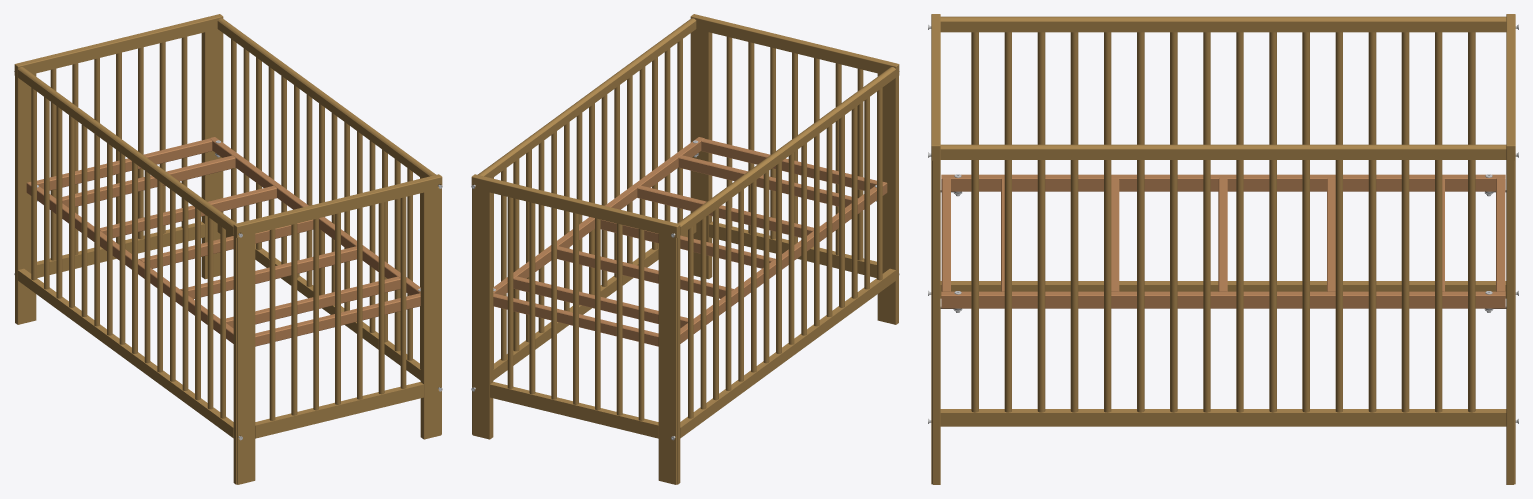
The model's file is All_Bed.glb.
The picture shows the model from 3 angles, left to right: view 1: azimuth 30°, elevation 25°; view 2: azimuth 150°, elevation 25°; view 3: azimuth 270°, elevation 25°; orthographic projection. The views are drawn at different scales.
Parts seen in each view (by area): view 1: KENSVIK_-_Part_1, KENSVIK_-_Part_2, KENSVIK_-_Part_2_1, KENSVIK_-_Part_1_1, KENSVIK_-_Part_10_1, KENSVIK_-_Part_11_1, KENSVIK_-_Part_5, KENSVIK_-_Part_11, KENSVIK_-_Part_5_1, KENSVIK_-_Part_7, KENSVIK_-_Part_13_1, KENSVIK_-_Part_13 (+52 smaller); view 2: KENSVIK_-_Part_2_1, KENSVIK_-_Part_1_1, KENSVIK_-_Part_1, KENSVIK_-_Part_2, KENSVIK_-_Part_10_1, KENSVIK_-_Part_11_1, KENSVIK_-_Part_5_1, KENSVIK_-_Part_11, KENSVIK_-_Part_5, KENSVIK_-_Part_7_1, KENSVIK_-_Part_13_1, KENSVIK_-_Part_13 (+52 smaller); view 3: KENSVIK_-_Part_10, KENSVIK_-_Part_11_1, KENSVIK_-_Part_11, KENSVIK_-_Part_13_1, KENSVIK_-_Part_13, KENSVIK_-_Part_10_1, KENSVIK_-_Part_1_1, KENSVIK_-_Part_2, KENSVIK_-_Part_9_11, KENSVIK_-_Part_9_13, KENSVIK_-_Part_9_15, KENSVIK_-_Part_9_16 (+35 smaller).
Part boxes in pixels (left/top/right/bottom): KENSVIK_-_Part_1: left=233, top=234, right=255, bottom=484; KENSVIK_-_Part_2: left=420, top=188, right=441, bottom=439; KENSVIK_-_Part_2_1: left=15, top=73, right=36, bottom=324; KENSVIK_-_Part_1_1: left=201, top=29, right=223, bottom=279; KENSVIK_-_Part_10_1: left=18, top=268, right=233, bottom=438; KENSVIK_-_Part_11_1: left=18, top=67, right=236, bottom=235; KENSVIK_-_Part_5: left=233, top=174, right=442, bottom=237; KENSVIK_-_Part_11: left=217, top=18, right=435, bottom=178; KENSVIK_-_Part_5_1: left=14, top=14, right=223, bottom=77; KENSVIK_-_Part_7: left=255, top=382, right=423, bottom=438; KENSVIK_-_Part_13_1: left=209, top=137, right=420, bottom=295; KENSVIK_-_Part_13: left=26, top=182, right=233, bottom=343; KENSVIK_-_Part_2_1: left=658, top=234, right=680, bottom=484; KENSVIK_-_Part_1_1: left=472, top=188, right=493, bottom=439; KENSVIK_-_Part_1: left=877, top=73, right=898, bottom=324; KENSVIK_-_Part_2: left=690, top=29, right=712, bottom=279; KENSVIK_-_Part_10_1: left=680, top=268, right=895, bottom=438; KENSVIK_-_Part_11_1: left=677, top=67, right=895, bottom=235; KENSVIK_-_Part_5_1: left=471, top=174, right=680, bottom=237; KENSVIK_-_Part_11: left=478, top=18, right=696, bottom=178; KENSVIK_-_Part_5: left=690, top=14, right=899, bottom=77; KENSVIK_-_Part_7_1: left=490, top=382, right=658, bottom=438; KENSVIK_-_Part_13_1: left=493, top=137, right=704, bottom=295; KENSVIK_-_Part_13: left=680, top=182, right=887, bottom=343; KENSVIK_-_Part_10: left=940, top=409, right=1506, bottom=426; KENSVIK_-_Part_11_1: left=940, top=16, right=1506, bottom=32; KENSVIK_-_Part_11: left=940, top=144, right=1506, bottom=159; KENSVIK_-_Part_13_1: left=941, top=291, right=1505, bottom=308; KENSVIK_-_Part_13: left=941, top=174, right=1505, bottom=191; KENSVIK_-_Part_10_1: left=940, top=281, right=1506, bottom=298; KENSVIK_-_Part_1_1: left=1506, top=160, right=1515, bottom=484; KENSVIK_-_Part_2: left=931, top=160, right=940, bottom=484; KENSVIK_-_Part_9_11: left=1368, top=160, right=1376, bottom=412; KENSVIK_-_Part_9_13: left=1401, top=160, right=1409, bottom=412; KENSVIK_-_Part_9_15: left=1070, top=160, right=1078, bottom=412; KENSVIK_-_Part_9_16: left=1037, top=160, right=1045, bottom=412.
Bounding box in the file's own units: 15.83 × 19 × 29.97.
